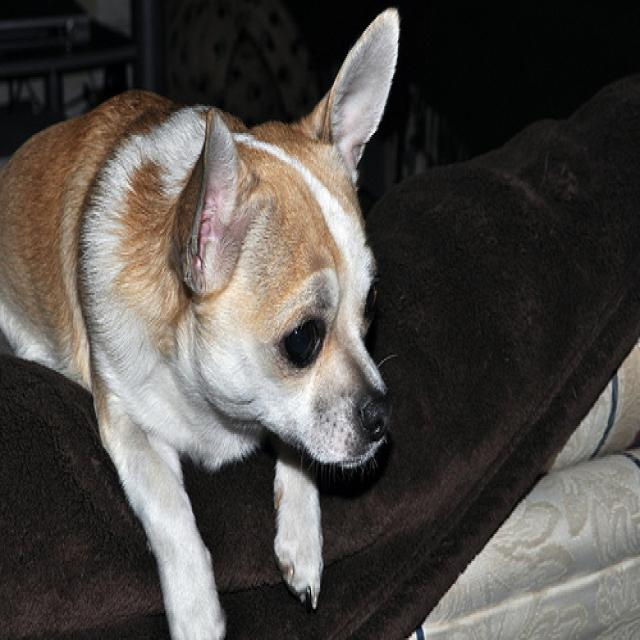dog-chihuahua: (1, 2, 404, 636)
